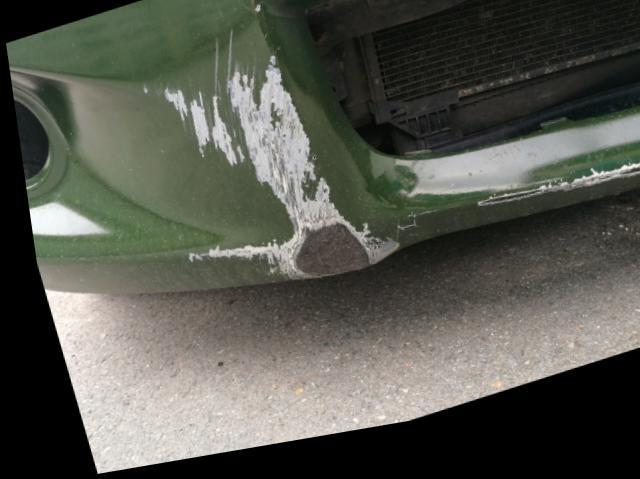scratch: (139, 35, 409, 291), (466, 178, 640, 229)
